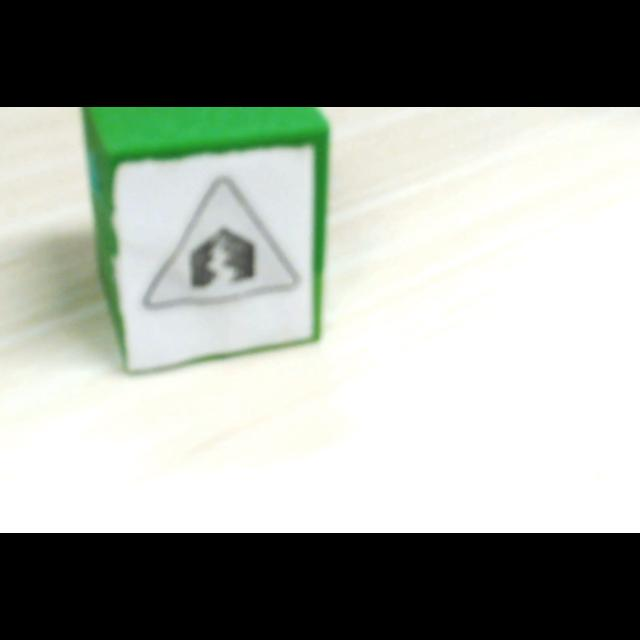Earthquake: (141, 175, 302, 314), (140, 176, 300, 310)
